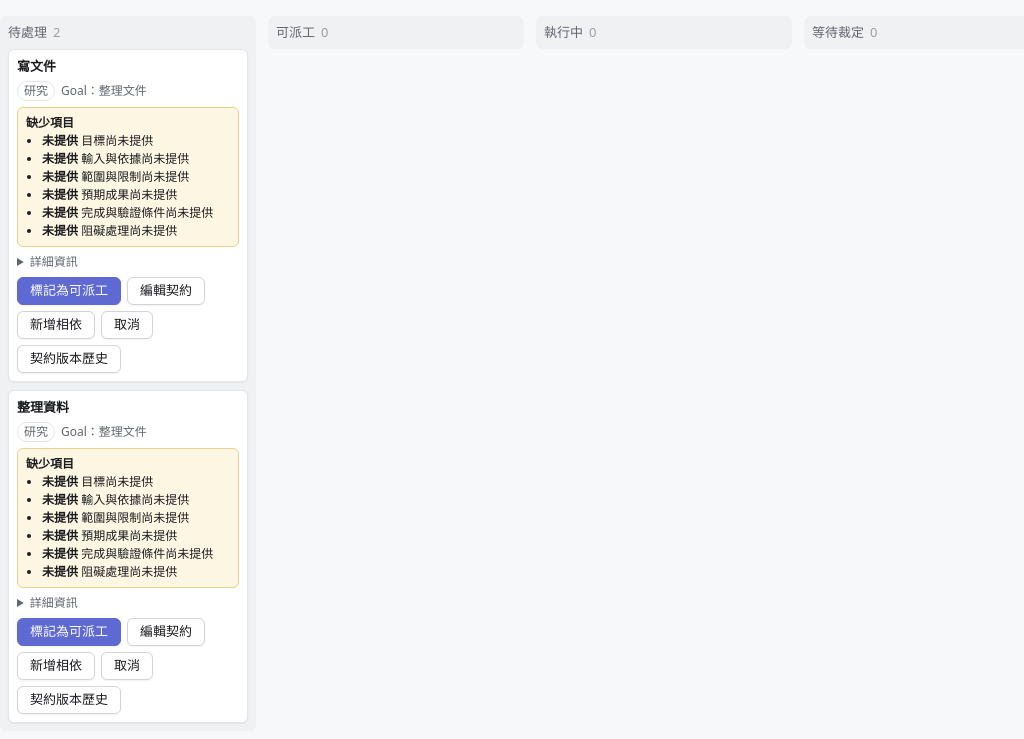
Test: 工作面板 › 新增相依：從同一 Workspace 的其他 Task 挑選，卡片顯示等待相依
The image size is (1024, 739).
(page scrolled)
Click the button "新增相依" below "整理資料": x=56, y=666 [17,652,95,680]
(page scrolled)
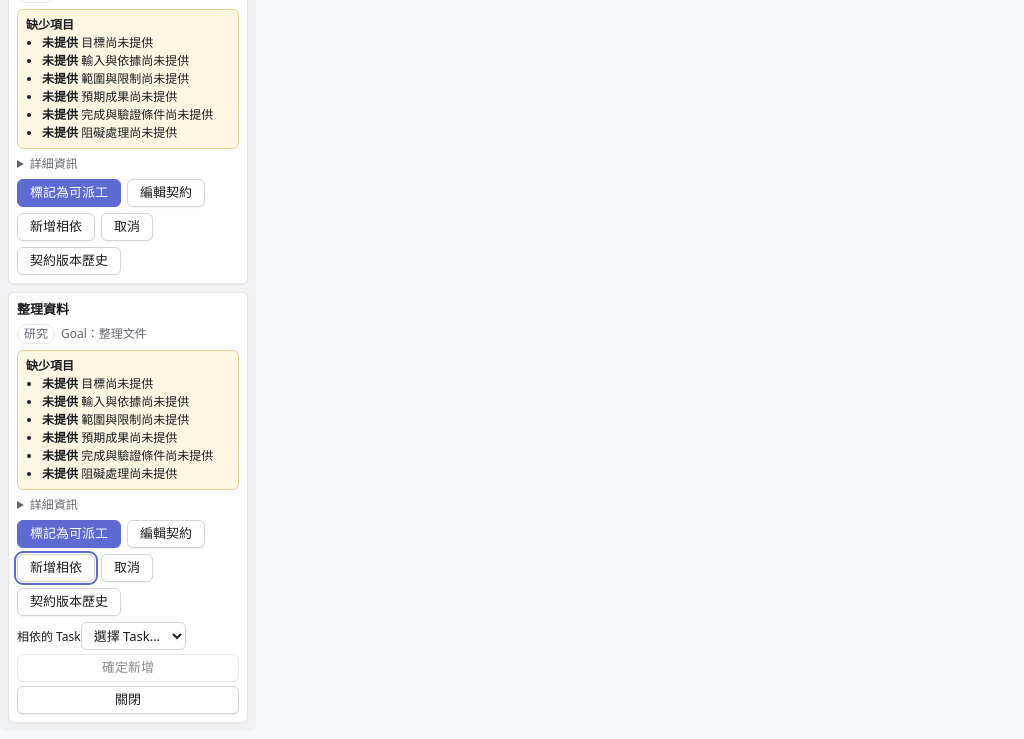
Select "寫文件" in the dropdown labelled "相依的 Task": x=133, y=636 [81,622,186,650]
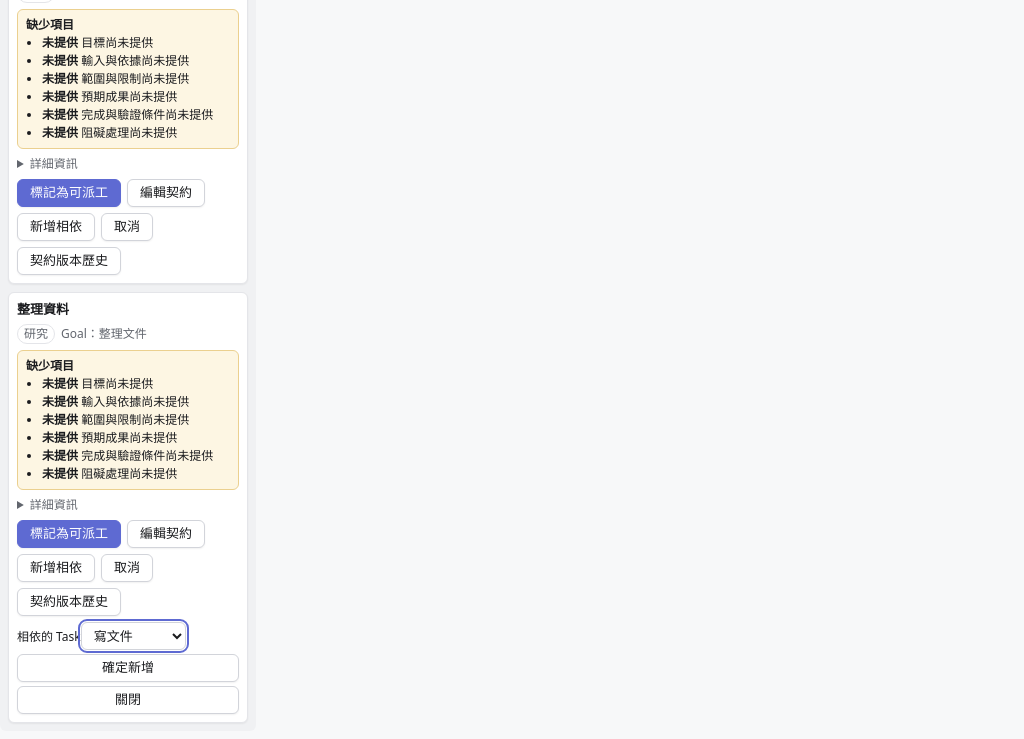
Click the button "確定新增": x=128, y=668 [17,654,239,682]
(page scrolled)
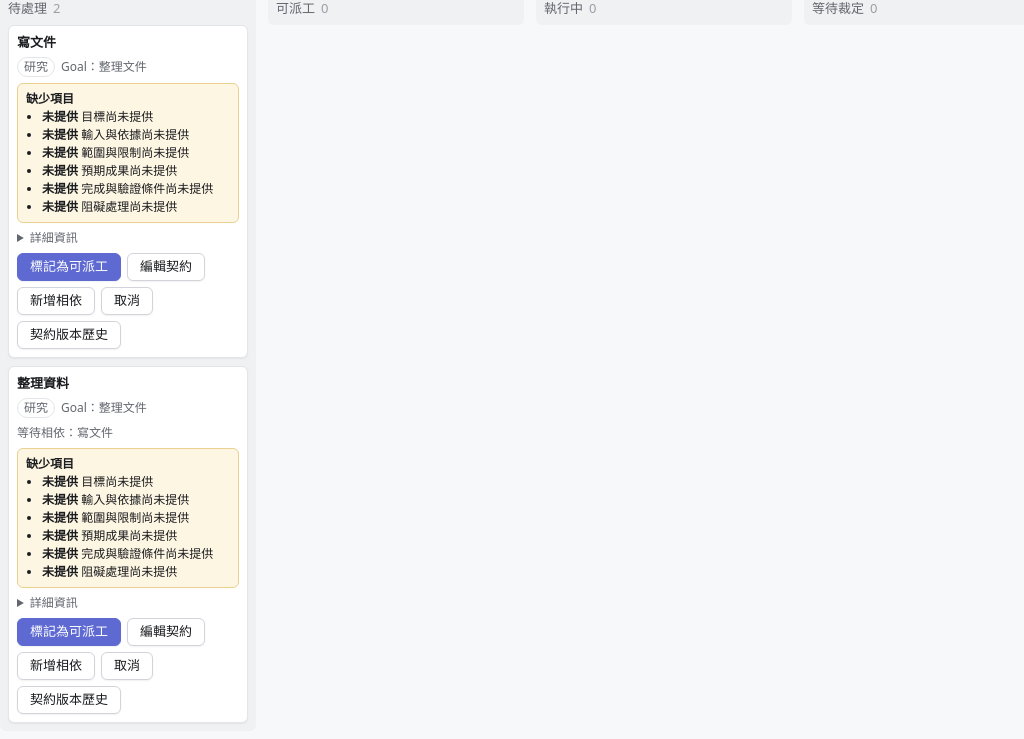
Now the text "等待相依：寫文件" is shown, box [17,424,113,441]
